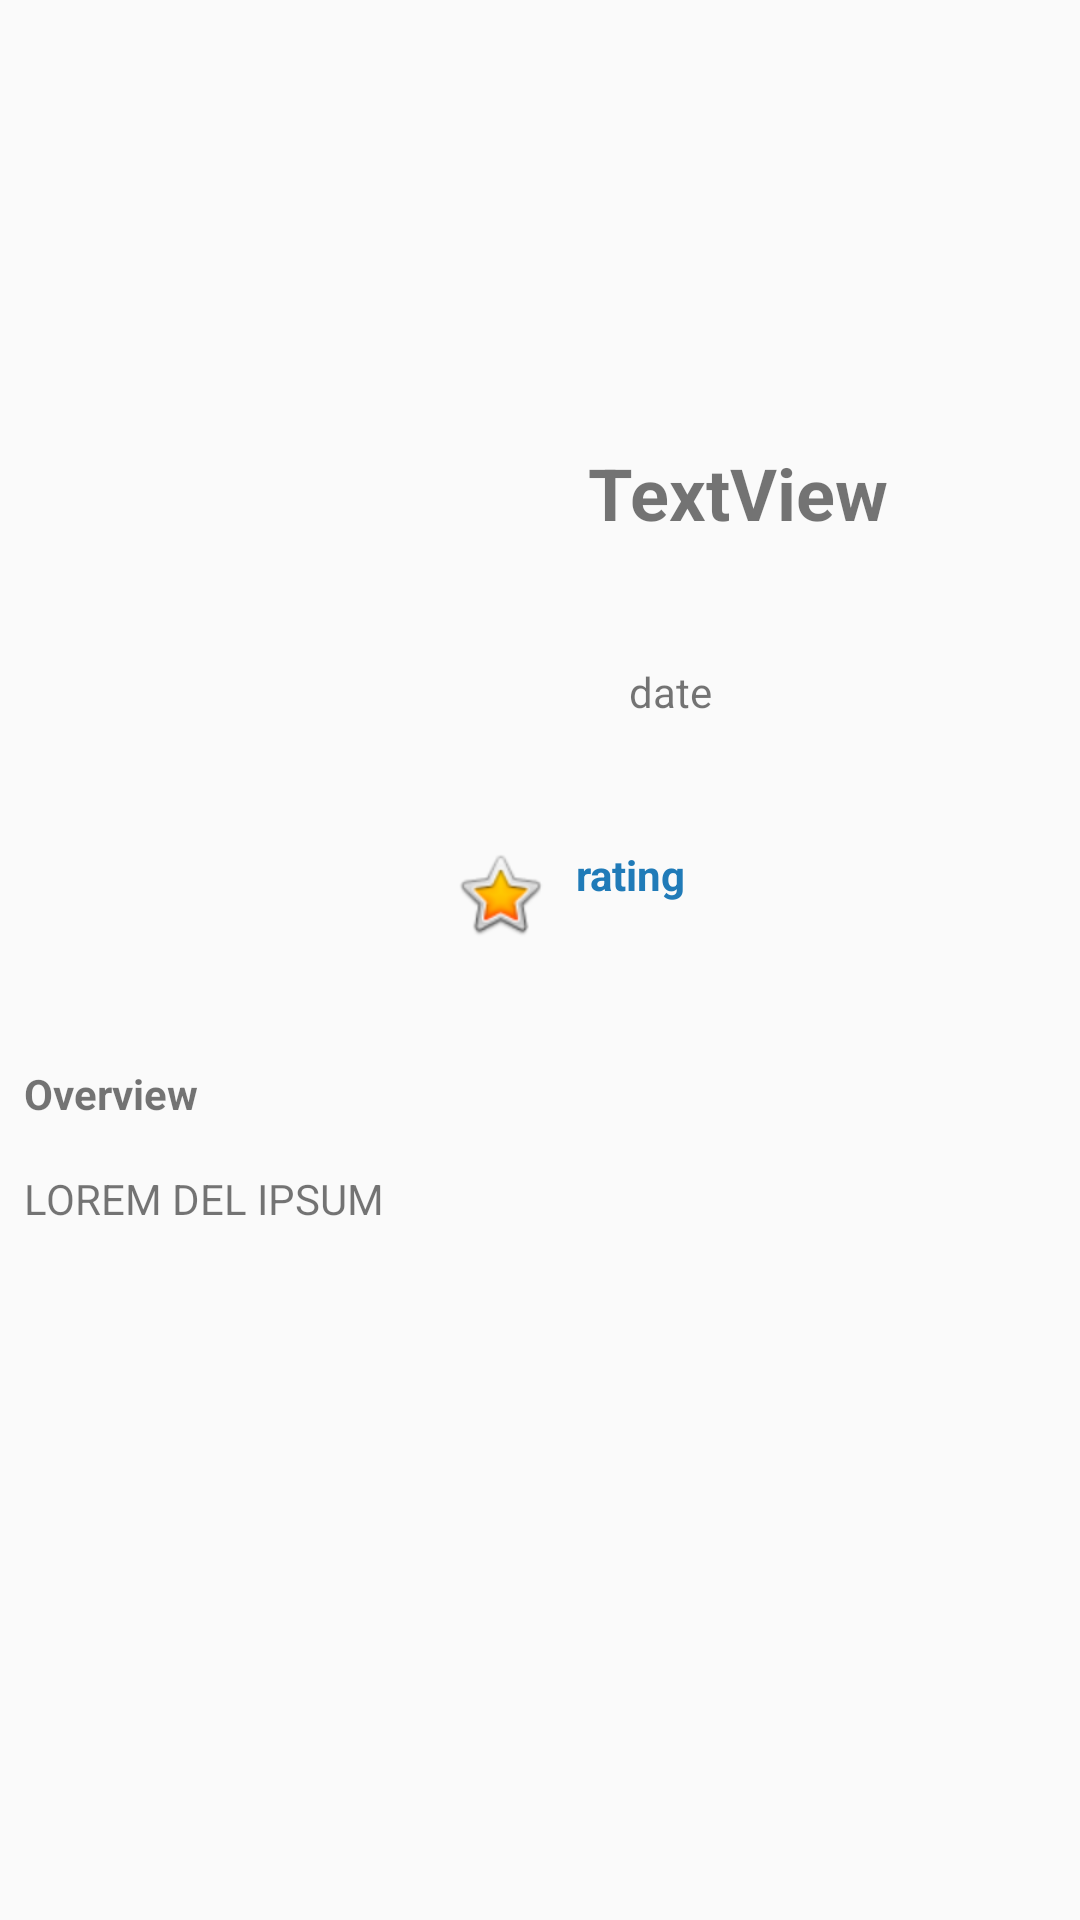

Locate icon controls on the screen. Image size 1080 x 1920, boxes as (x1, y1, x2, y2).
star on: (461, 856, 541, 934)
